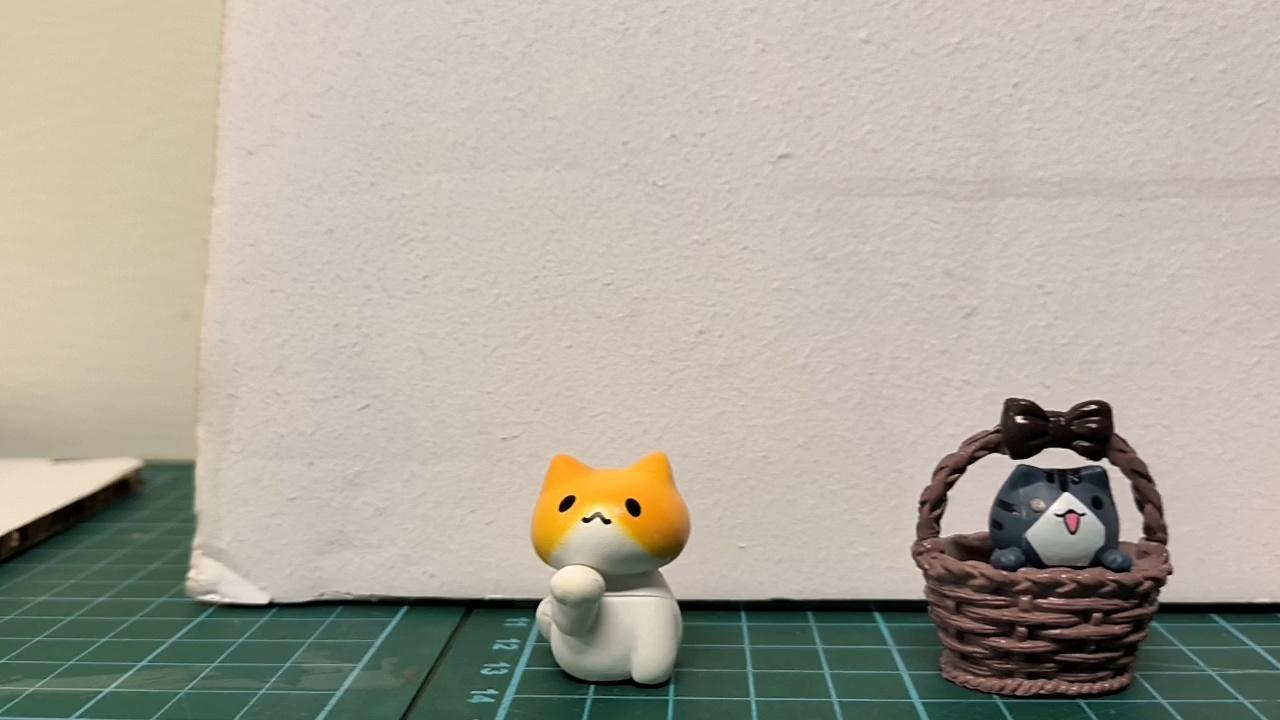pet: (528, 451, 689, 685), (988, 458, 1132, 573)
